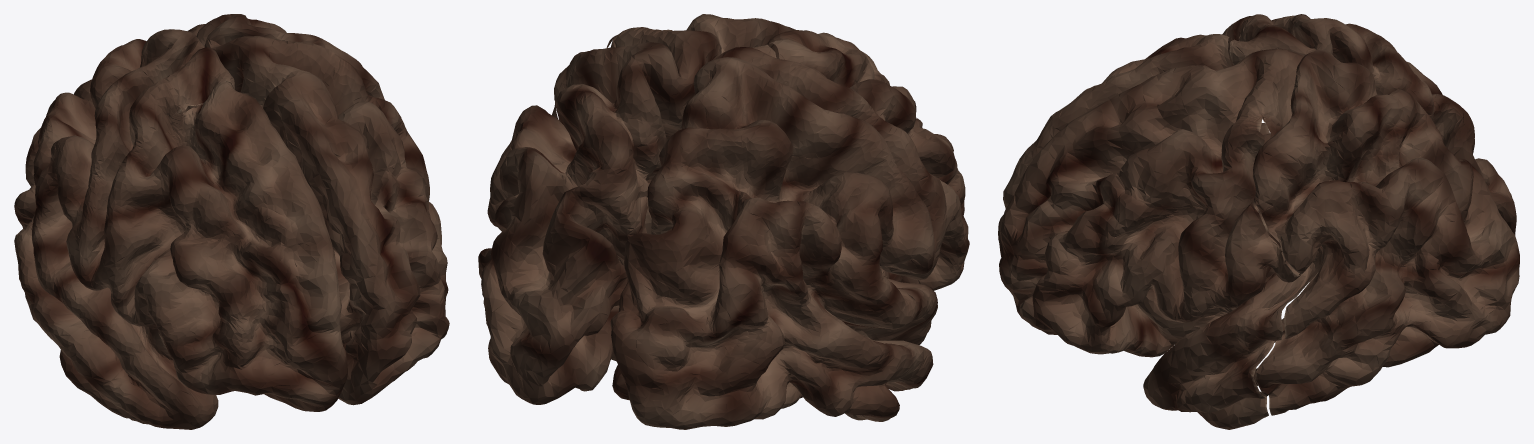
Rendered from full_brain_optimized.glb.
3 renders of one model, left to right at view 1: azimuth 30°, elevation 25°; view 2: azimuth 150°, elevation 25°; view 3: azimuth 270°, elevation 25°, orthographic. The views are drawn at different scales.
Visible parts, largest first — view 1: world; view 2: world; view 3: world.
Boxes of the visible parts, x1,y1,x2,y2 form: world: [14, 14, 449, 429]; world: [478, 14, 969, 429]; world: [998, 14, 1519, 429].
Bounding box in the file's own units: 1.85 × 1.69 × 2.32.
1 material, 1 textured.
